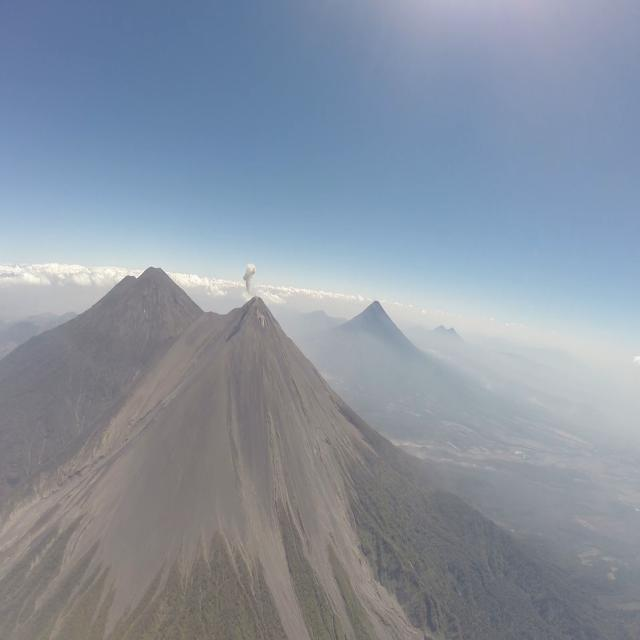Plume: (241, 261, 256, 295)
Summit: (227, 295, 284, 333)
